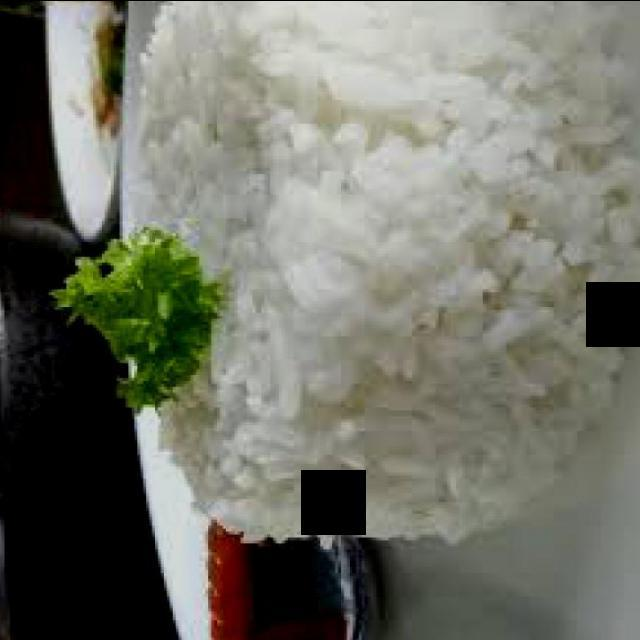rice: (126, 0, 640, 543)
